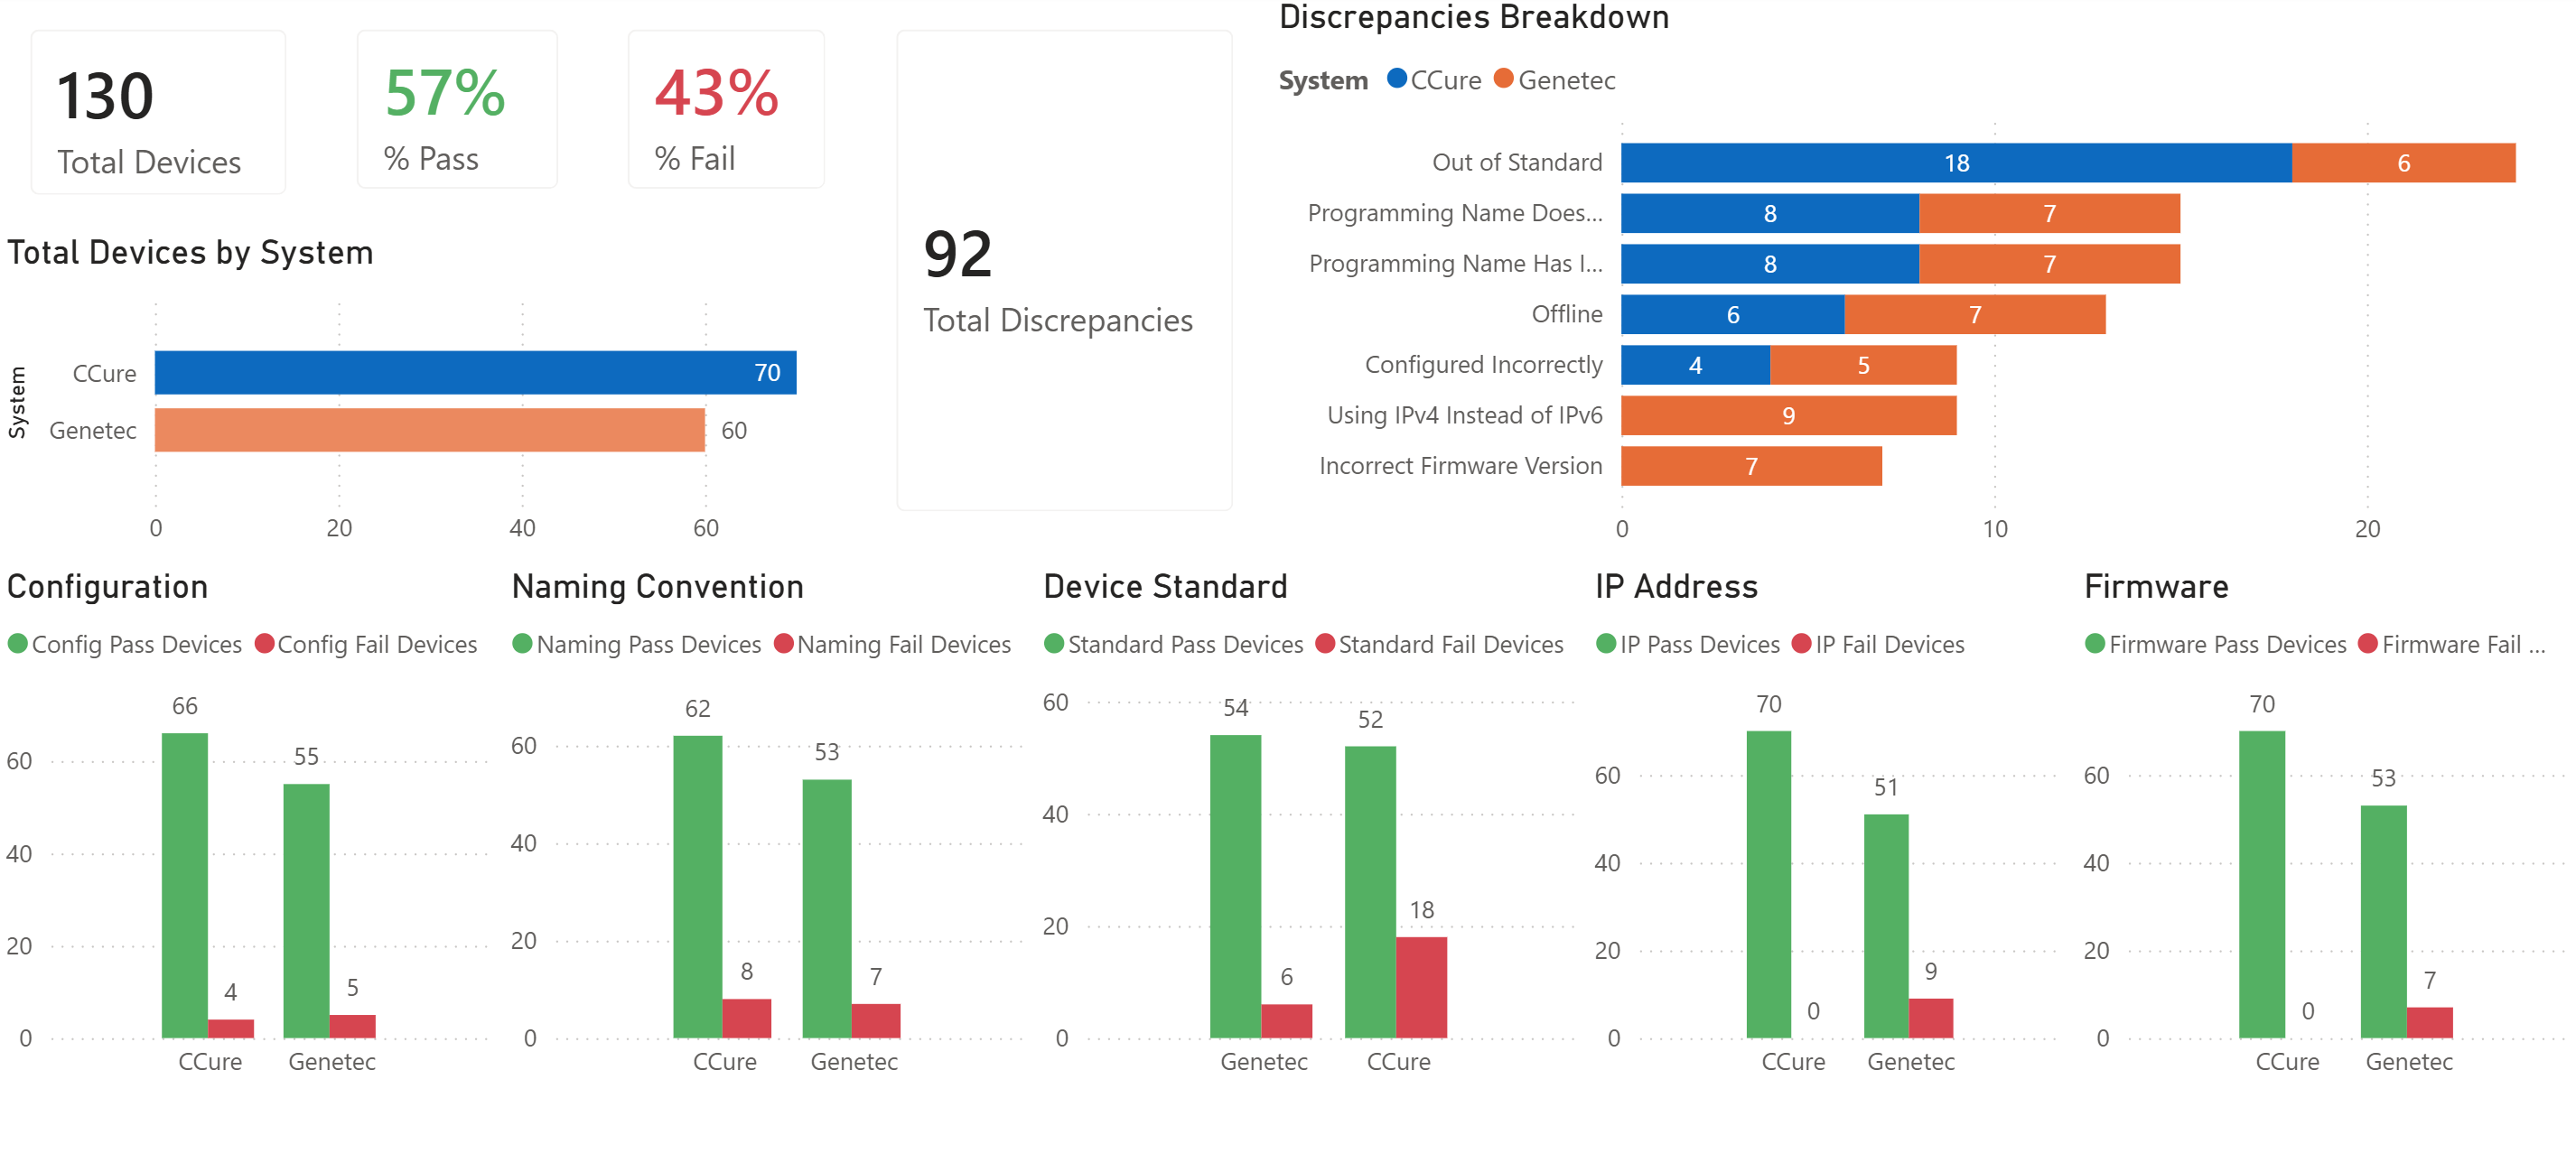

The page's visual inventory and layout, read from the dashboard file:
{"tool":"powerbi","page":{"name":"Dashboard","canvas":[1280,720],"ordinal":0},"visuals":[{"type":"cardVisual","fields":{"Data":["DeviceAudit.Total Devices"]},"box":[0,0,161.8,117],"z":0},{"type":"cardVisual","fields":{"Data":["DeviceAudit.% Pass"]},"box":[161.8,0,134.3,113.1],"z":1000},{"type":"cardVisual","fields":{"Data":["DeviceAudit.% Fail"]},"box":[296.1,0,132.7,113.1],"z":2000},{"type":"cardVisual","fields":{"Data":["DeviceAudit.Total Discrepancies"]},"box":[429.1,0,201.8,273.6],"z":3000},{"type":"clusteredBarChart","fields":{"Category":["DeviceAudit.System"],"Y":["DeviceAudit.Total Devices"]},"box":[0,117.2,428.7,165.4],"z":4000},{"type":"barChart","title":"Discrepancies Breakdown","fields":{"Category":["DeviceAudit.Failure Type"],"Y":["CountNonNull(DeviceAudit.Failure Type)"],"Series":["DeviceAudit.System"]},"box":[630.8,0,648.9,282.6],"z":5000},{"type":"clusteredColumnChart","title":"Configuration","fields":{"Category":["DeviceAudit.System"],"Y":["DeviceAudit.Config Pass Devices","DeviceAudit.Config Fail Devices"]},"box":[0,282.7,250,264.5],"z":6000},{"type":"clusteredColumnChart","title":"Naming Convention","fields":{"Category":["DeviceAudit.System"],"Y":["DeviceAudit.Naming Pass Devices","DeviceAudit.Naming Fail Devices"]},"box":[250,282.7,263.6,264.5],"z":7000},{"type":"clusteredColumnChart","title":"Device Standard","fields":{"Y":["DeviceAudit.Standard Pass Devices","DeviceAudit.Standard Fail Devices"],"Category":["DeviceAudit.System"]},"box":[513.6,282.7,273.6,264.5],"z":8000},{"type":"clusteredColumnChart","title":"IP Address","fields":{"Y":["DeviceAudit.IP Pass Devices","DeviceAudit.IP Fail Devices"],"Category":["DeviceAudit.System"]},"box":[787.3,282.7,242.7,264.5],"z":9000},{"type":"clusteredColumnChart","title":"Firmware","fields":{"Y":["DeviceAudit.Firmware Pass Devices","DeviceAudit.Firmware Fail Devices"],"Category":["DeviceAudit.System"]},"box":[1030,282.7,250,264.5],"z":10000}]}

Visuals, with their boxes on the page's 1280x720 design canvas (x1, y1, x2, y2). These are canvas units, not pixel positions in the 2576x1154 screenshot, which may show the page scaled, cropped or inside an application window:
cardVisual - DeviceAudit.Total Devices: (0, 0, 162, 117)
cardVisual - DeviceAudit.% Pass: (162, 0, 296, 113)
cardVisual - DeviceAudit.% Fail: (296, 0, 429, 113)
cardVisual - DeviceAudit.Total Discrepancies: (429, 0, 631, 274)
clusteredBarChart - DeviceAudit.System x DeviceAudit.Total Devices: (0, 117, 429, 283)
"Discrepancies Breakdown" barChart: (631, 0, 1280, 283)
"Configuration" clusteredColumnChart: (0, 283, 250, 547)
"Naming Convention" clusteredColumnChart: (250, 283, 514, 547)
"Device Standard" clusteredColumnChart: (514, 283, 787, 547)
"IP Address" clusteredColumnChart: (787, 283, 1030, 547)
"Firmware" clusteredColumnChart: (1030, 283, 1280, 547)
